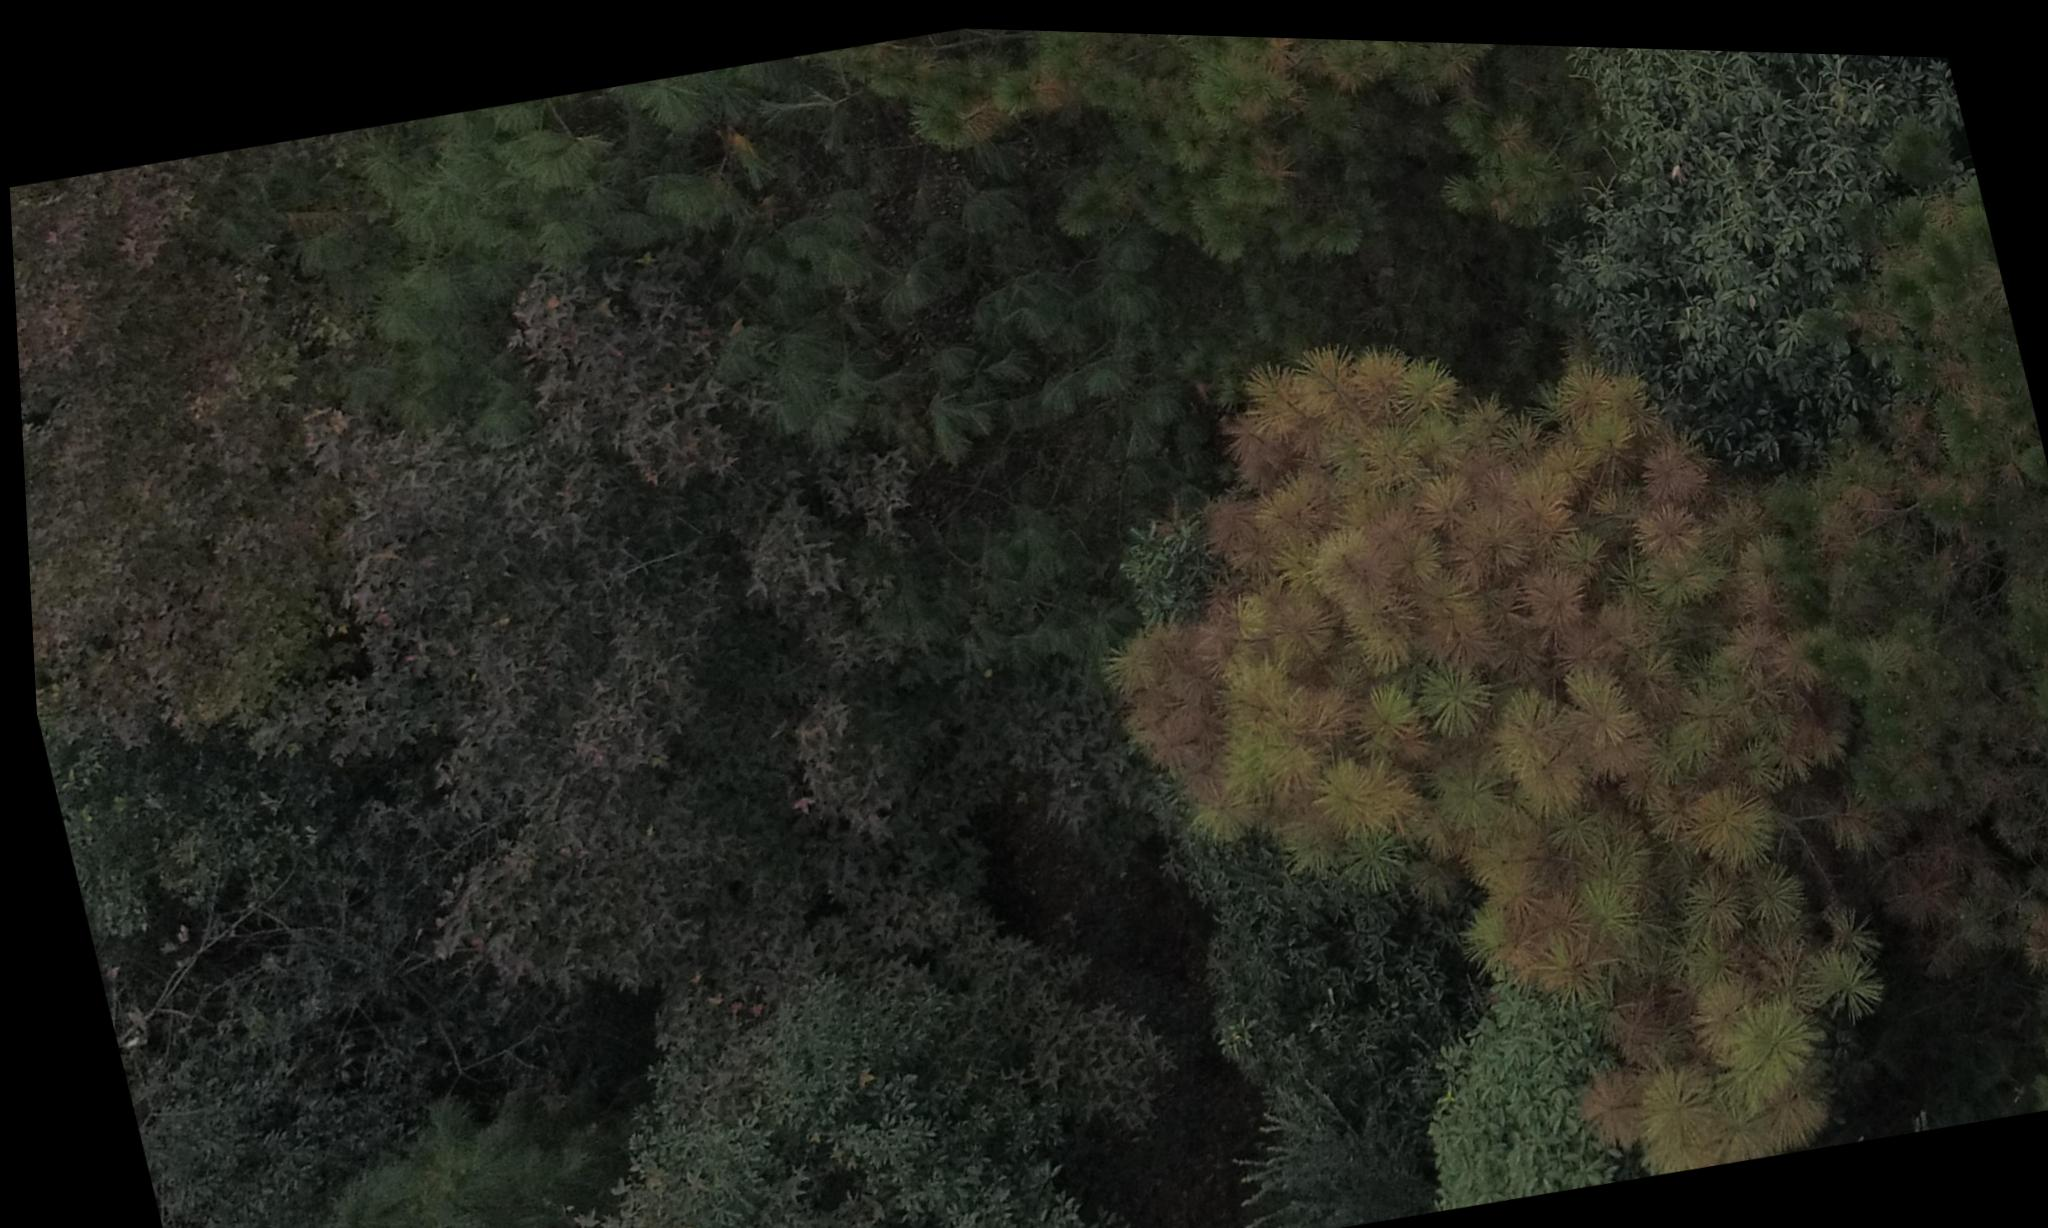light: (1057, 263, 1895, 1218)
